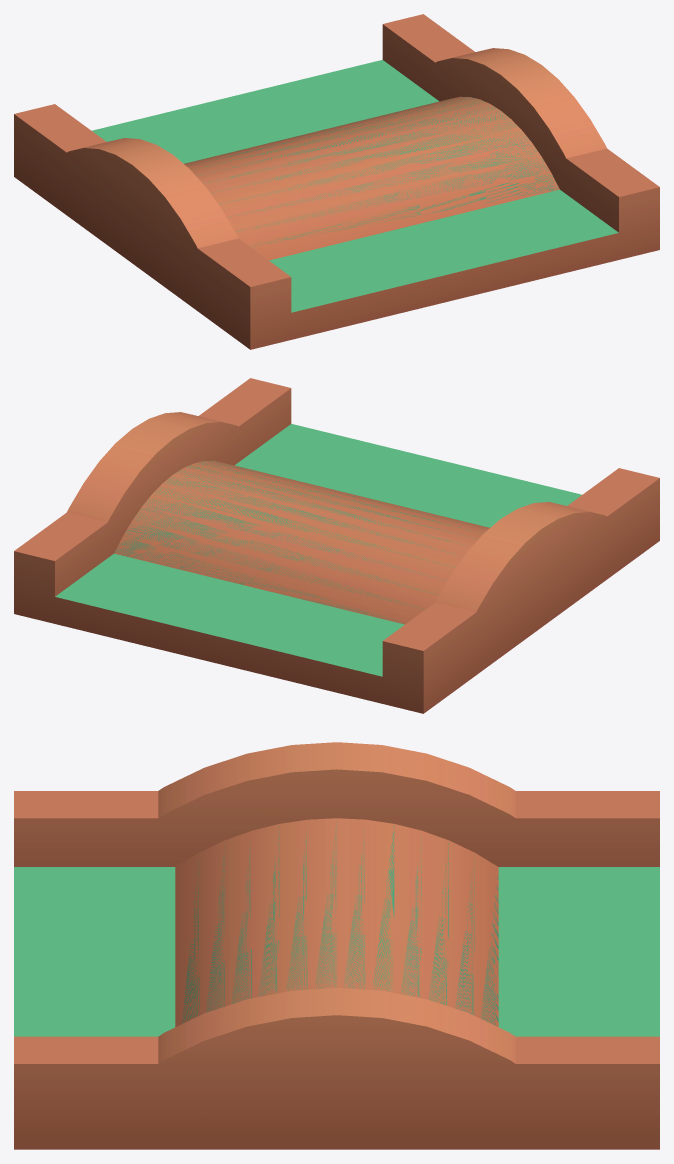
The model's file is hill-round.glb.
3 renders of one model, top to bottom at view 1: azimuth 30°, elevation 25°; view 2: azimuth 150°, elevation 25°; view 3: azimuth 270°, elevation 25°, orthographic. The views are drawn at different scales.
Visible parts, largest first — view 1: hill-round; view 2: hill-round; view 3: hill-round.
Part boxes in pixels (x1,y1,x2,y2): hill-round: (14, 14, 659, 349); hill-round: (14, 378, 659, 713); hill-round: (14, 742, 659, 1149).
Bounding box in the file's own units: 0.9999 × 0.23 × 0.9999.
1 material, 1 textured.
